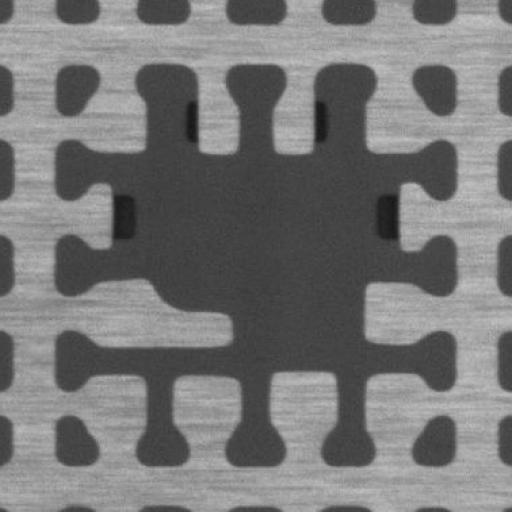NO_DIE: (49, 58, 462, 469)
